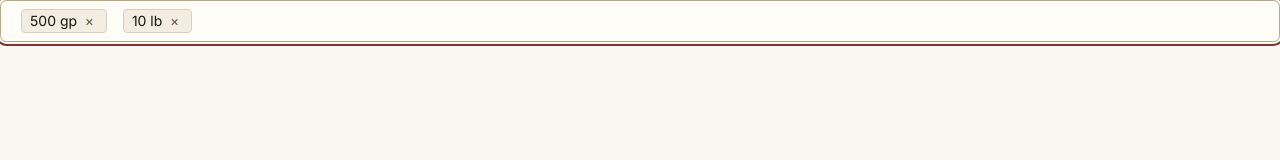
Test: <TagInput> › clicking the per-tag remove button removes that tag
Click the button named "remove 500 gp". click: (90, 21)
box: [81,13,98,30]
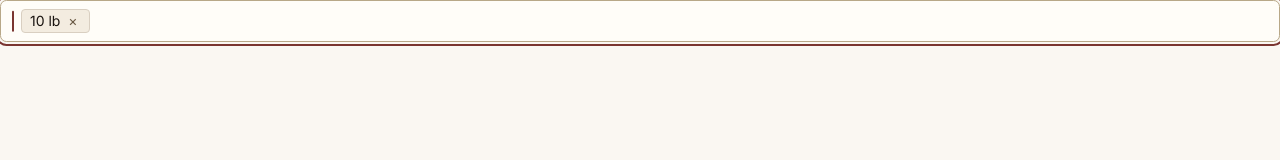
Check: the text "10 lb" is shown, box [30,10,60,32]
Check: the text "500 gp" is gone
